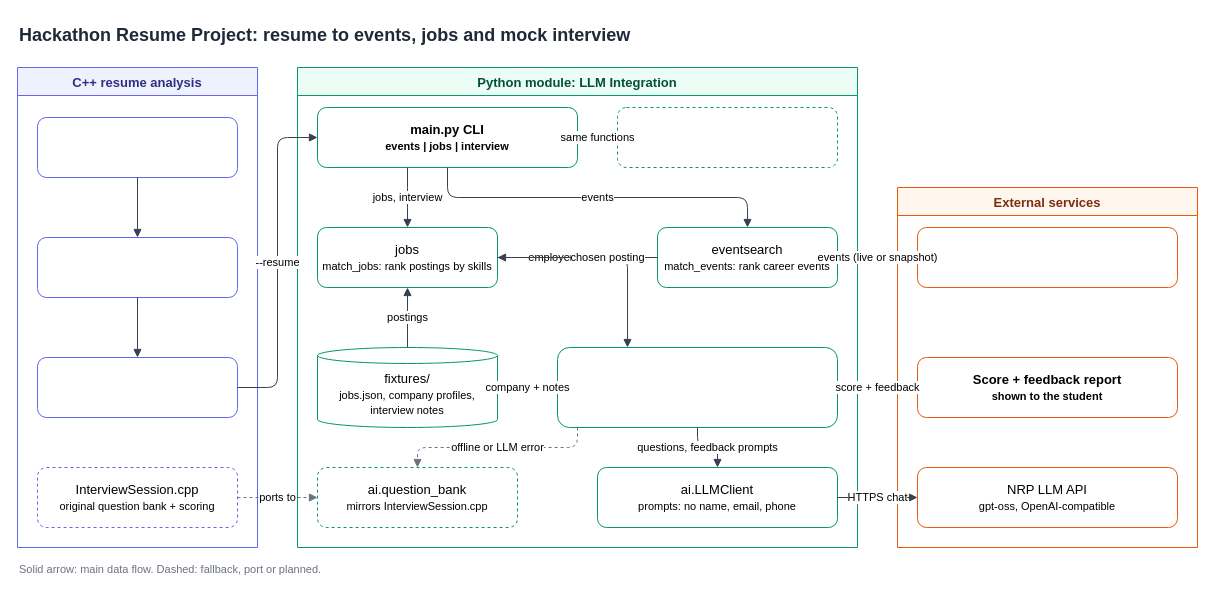
This 1215x598 diagram has some shape labels left out. The centre of each missing label's shape, as x and y in pixels:
"ai.InterviewSession technical and HR interviews ask, answer, evaluate" goes at point 697,387.
"C++ Resume Parser extracts skills, experience" goes at point 137,267.
"EagleLink FGCU career events" goes at point 1047,257.
"Resume file PDF / DOCX / TXT" goes at point 137,147.
"Resume.h JSON ResumeAnalysis" goes at point 137,387.
"Streamlit GUI (planned) demo front end" goes at point 727,137.
